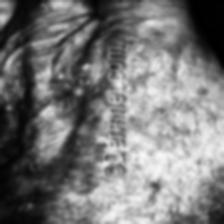Potentially Malignant Skin Tumors: (43, 55, 95, 115), (148, 97, 182, 129), (88, 132, 106, 168), (128, 145, 152, 165)
